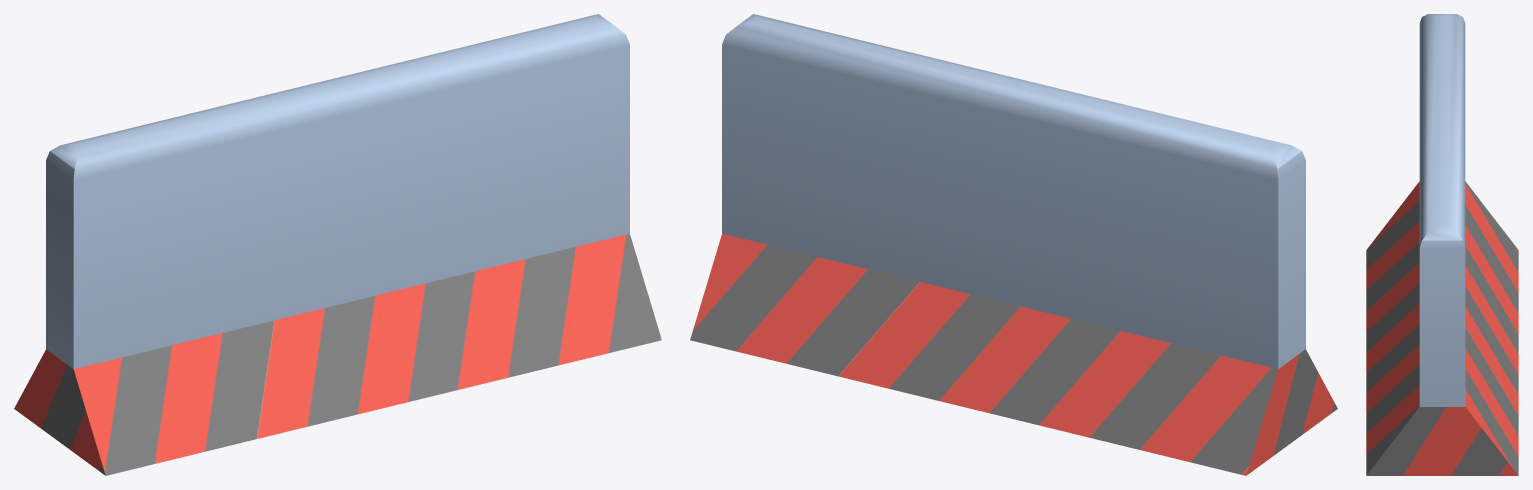
Rendered from Barrier01.fbx.
3 views of the same model, side by side, from view 1: azimuth 30°, elevation 25°; view 2: azimuth 150°, elevation 25°; view 3: azimuth 270°, elevation 25° (orthographic). The views are drawn at different scales.
Visible parts, largest first — view 1: Barrier01; view 2: Barrier01; view 3: Barrier01.
Boxes of the visible parts, x1,y1,x2,y2 form: Barrier01: [14, 14, 661, 475]; Barrier01: [690, 14, 1337, 475]; Barrier01: [1366, 14, 1518, 475].
Bounding box in the file's own units: 315 × 158 × 90.
